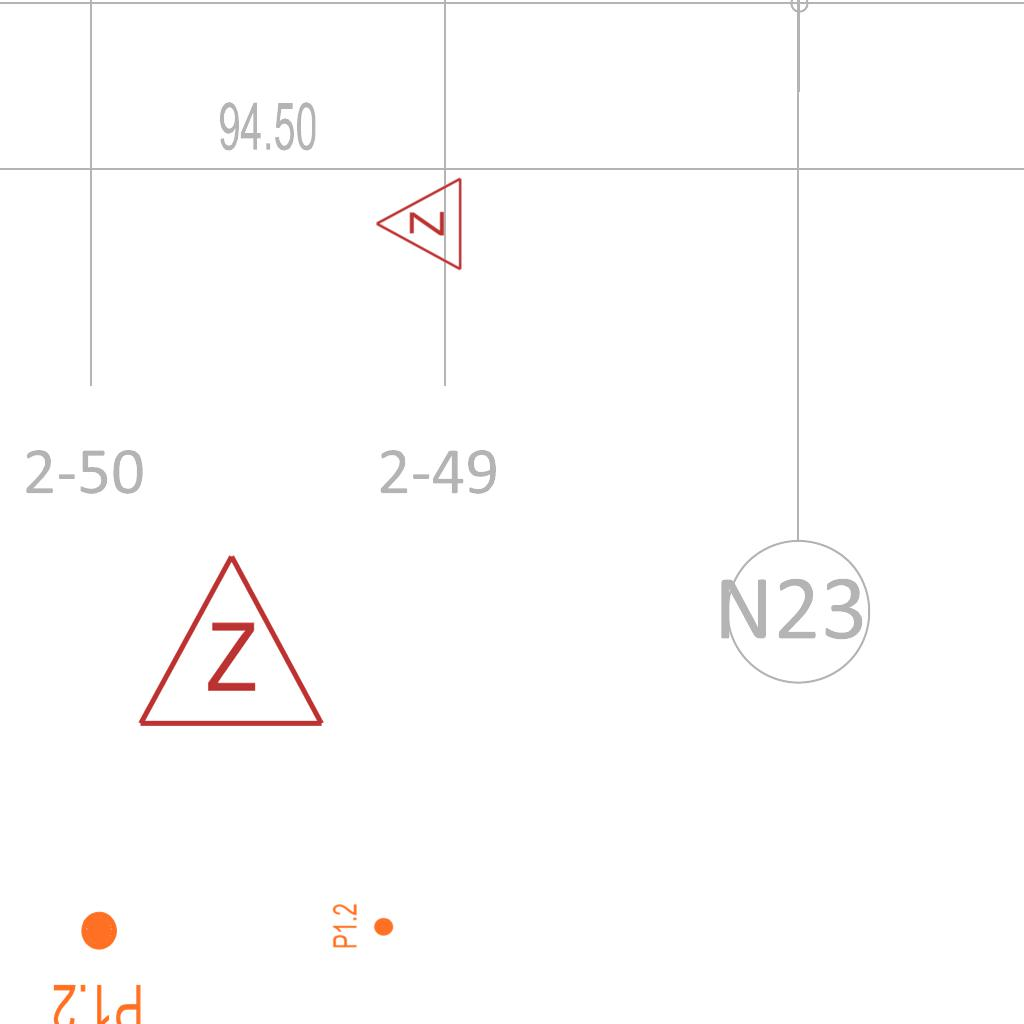Downlight_LED_Einbauleuchten_Flur: (51, 908, 144, 1024), (331, 903, 395, 949)
Zimmersignalleuchte: (131, 541, 327, 741), (369, 176, 469, 274)
